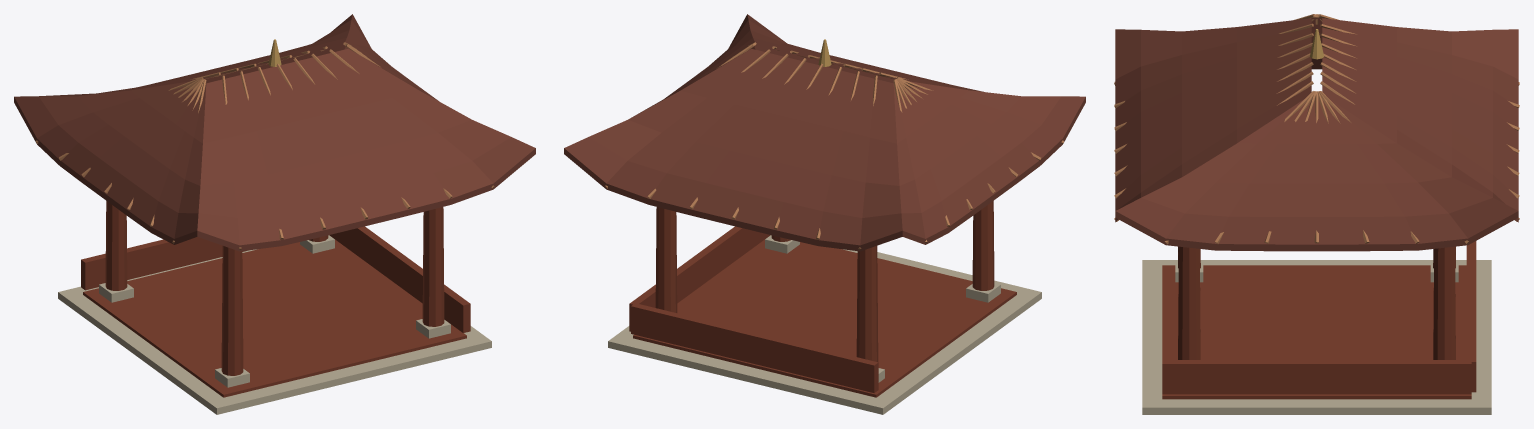
Rendered from dinh-sen-blender.glb.
The picture shows the model from 3 angles, left to right: view 1: azimuth 30°, elevation 25°; view 2: azimuth 150°, elevation 25°; view 3: azimuth 270°, elevation 25°; orthographic projection. The views are drawn at different scales.
Visible parts, largest first — view 1: dinh-sen-blender-tile, dinh-sen-blender-wood, dinh-sen-blender-stone, dinh-sen-blender-tile-edge; view 2: dinh-sen-blender-tile, dinh-sen-blender-wood, dinh-sen-blender-stone, dinh-sen-blender-tile-edge; view 3: dinh-sen-blender-tile, dinh-sen-blender-wood, dinh-sen-blender-stone, dinh-sen-blender-tile-edge.
Part boxes in pixels (x1=…): dinh-sen-blender-tile: x1=14, y1=14, x2=535, y2=251; dinh-sen-blender-wood: x1=81, y1=201, x2=470, y2=397; dinh-sen-blender-stone: x1=58, y1=235, x2=491, y2=414; dinh-sen-blender-tile-edge: x1=36, y1=42, x2=494, y2=249; dinh-sen-blender-tile: x1=564, y1=14, x2=1085, y2=251; dinh-sen-blender-wood: x1=629, y1=201, x2=1016, y2=397; dinh-sen-blender-stone: x1=608, y1=235, x2=1041, y2=414; dinh-sen-blender-tile-edge: x1=605, y1=42, x2=1063, y2=249; dinh-sen-blender-tile: x1=1115, y1=18, x2=1518, y2=251; dinh-sen-blender-wood: x1=1162, y1=241, x2=1476, y2=399; dinh-sen-blender-stone: x1=1142, y1=260, x2=1491, y2=414; dinh-sen-blender-tile-edge: x1=1114, y1=14, x2=1519, y2=244.
Bounding box in the file's own units: 6.46 × 5.12 × 6.04.
